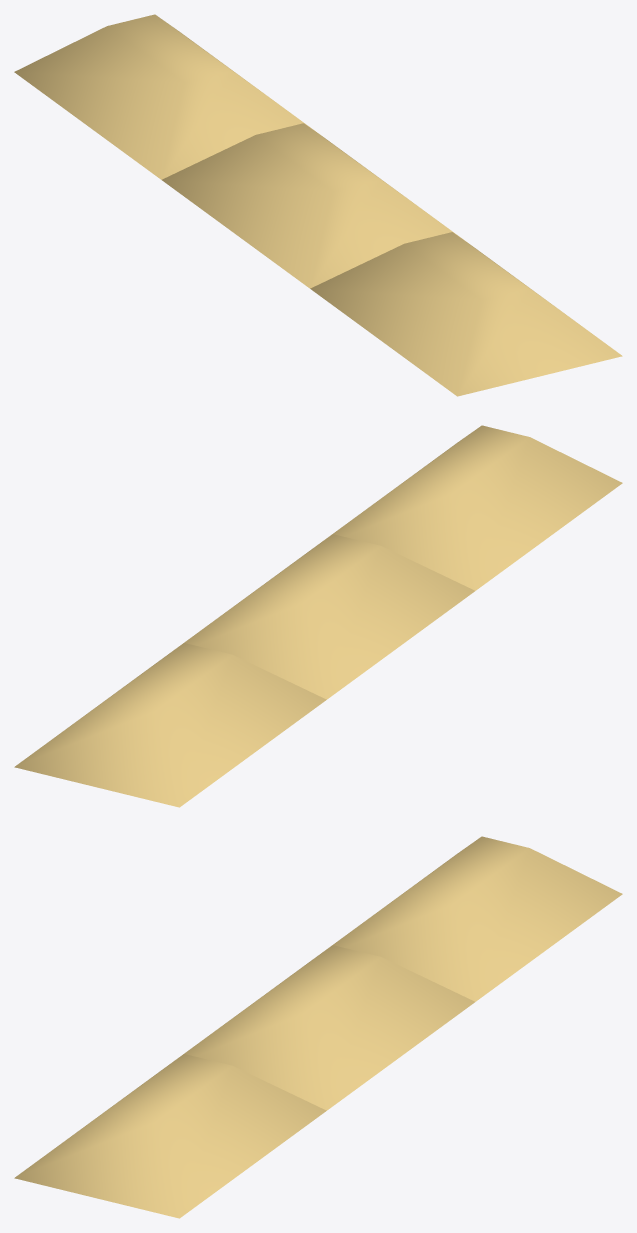
Rendered from Load_Bulk_pellet_Full.glb.
3 views of the same model, one above another, from view 1: azimuth 30°, elevation 25°; view 2: azimuth 150°, elevation 25°; view 3: azimuth 330°, elevation 25° (orthographic).
Parts seen in each view (by area): view 1: Load_Bulk_pellet_Full; view 2: Load_Bulk_pellet_Full; view 3: Load_Bulk_pellet_Full.
Part boxes in pixels (x1,y1,x2,y2): Load_Bulk_pellet_Full: [14, 14, 622, 396]; Load_Bulk_pellet_Full: [14, 425, 622, 807]; Load_Bulk_pellet_Full: [14, 836, 622, 1218].
Bounding box in the file's own units: 2.69 × 0.8805 × 12.48.
1 material, 1 textured.
